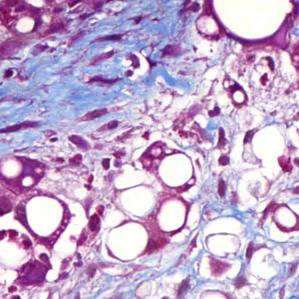steatosis: (21, 198, 66, 236), (158, 152, 197, 185)
